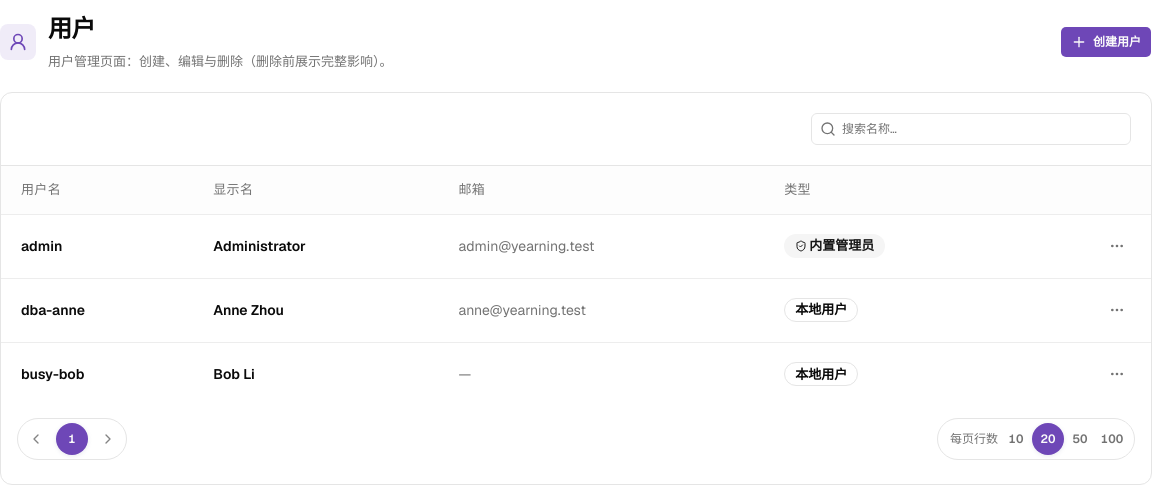
admin table search (§18.37) › users: filters by username/display name/email with a search empty state
The image size is (1164, 502).
Expected: the heading "用户" is shown, [48,13,95,44]
Expected: the text "dba-anne" is shown, [1,278,193,342]
Type "anne" into the field with test id "admin-users-search" at (983, 129), box [836,113,1130,145]
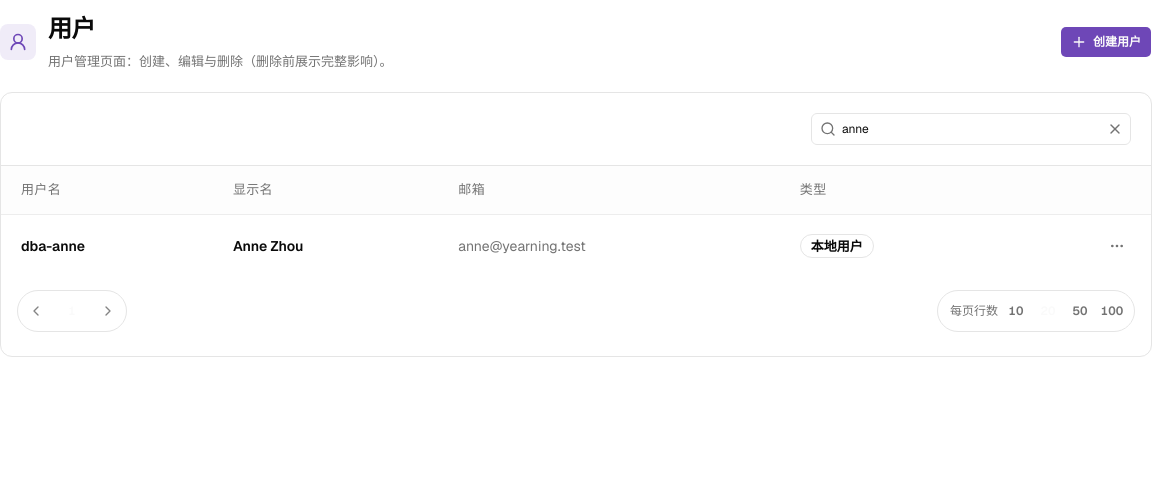
Expected: the text "dba-anne" is shown, [1,214,213,278]
Result: the text "Administrator" is gone
Replace the text in the field with test id "admin-users-search" with "不存在" at (969, 129), box [836,113,1103,145]
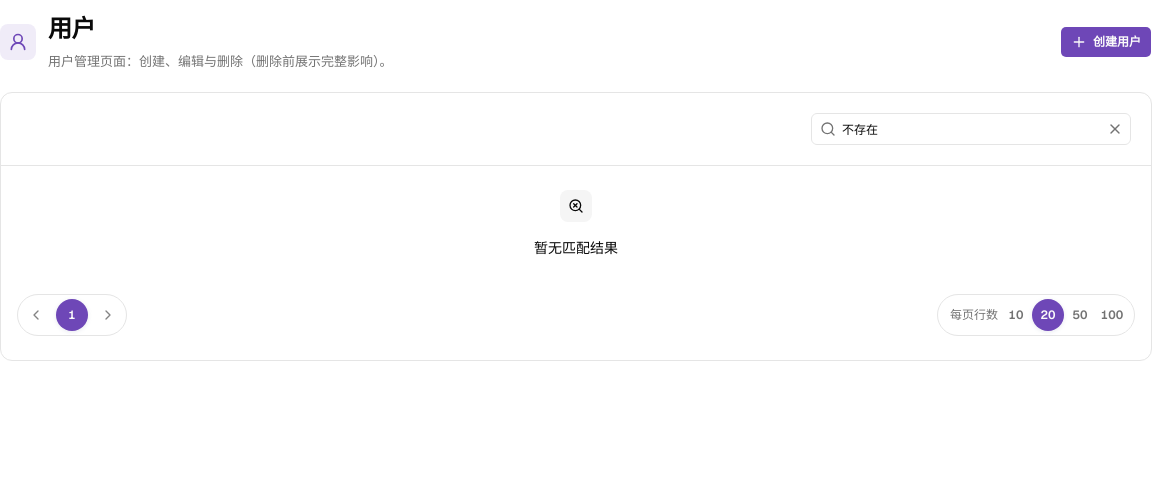
Result: the text "暂无匹配结果" is shown at [534,238,618,258]
Clear the field with test id "admin-users-search" at (969, 129), box [836,113,1103,145]
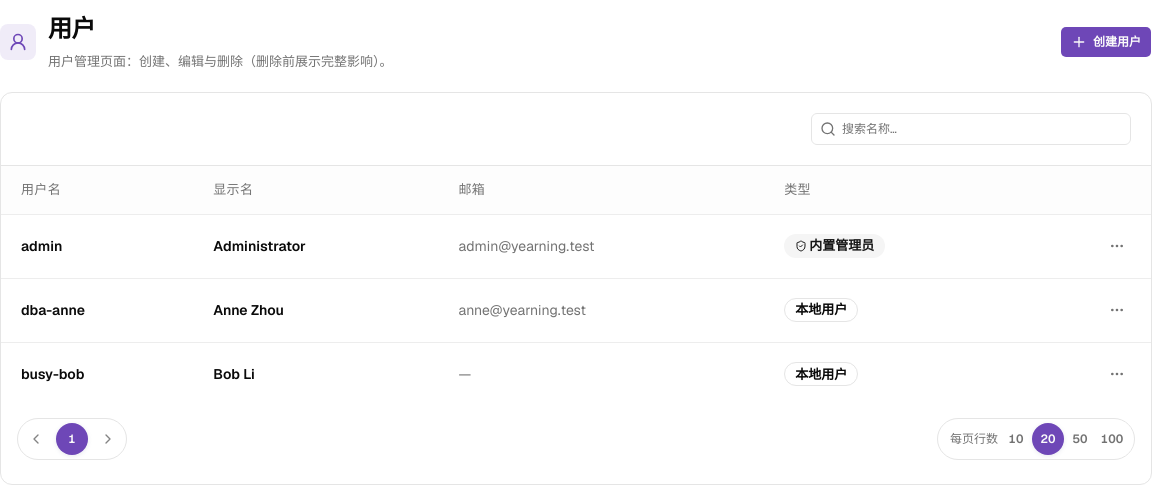
Result: the text "Administrator" is shown at [193,214,438,278]
